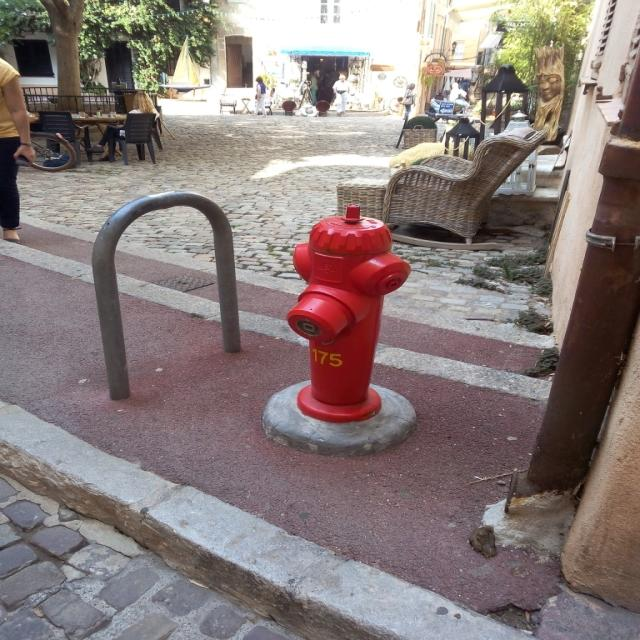fire_hydrant: (285, 206, 414, 422)
